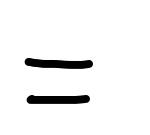eqv: (24, 58, 93, 104)
